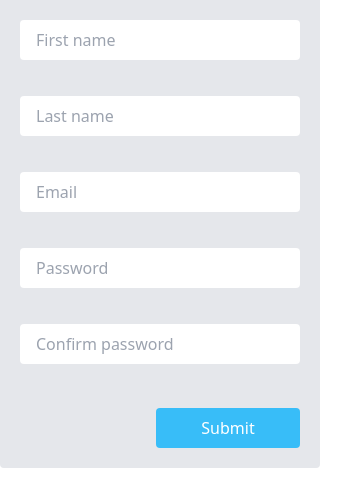
Test: User signup › Should render errors on signup fail
Type "James" into the field with placeholder "First name" at (160, 40), box [20,20,300,60]
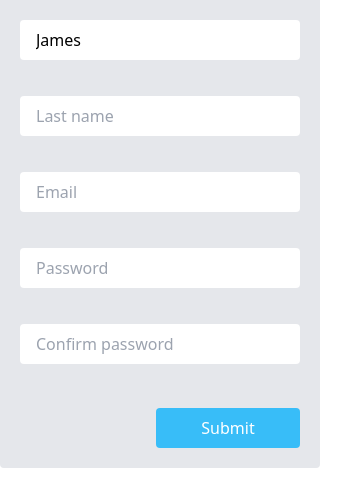
Type "Yeboah" into the field with placeholder "Last name" at (160, 116), box [20,96,300,136]
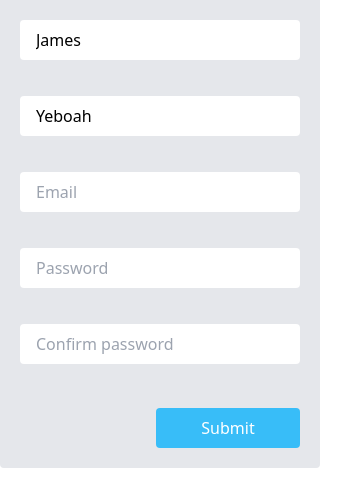
Type "jamesyeb@gmail.com" into the field with placeholder "Email" at (160, 192), box [20,172,300,212]
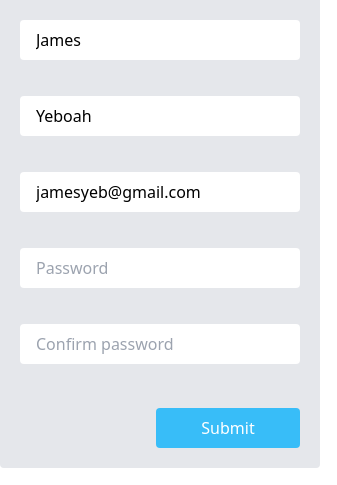
Type "1233addf!" into the password field with placeholder "Password" at (160, 268), box [20,248,300,288]
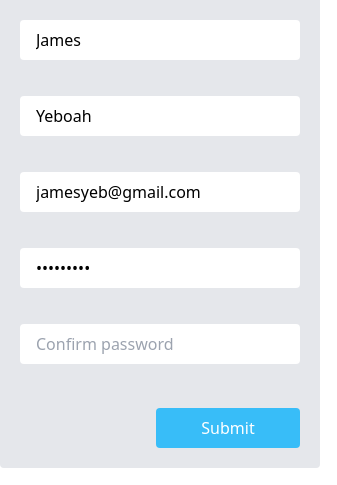
Type "1233addf!" into the password field with placeholder "Confirm password" at (160, 344), box [20,324,300,364]
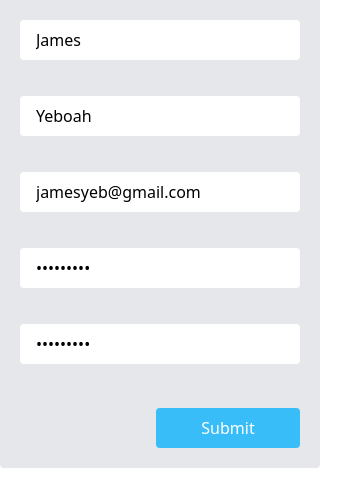
Click the button with test id "genform-submit" at (228, 428), box [156,408,300,448]
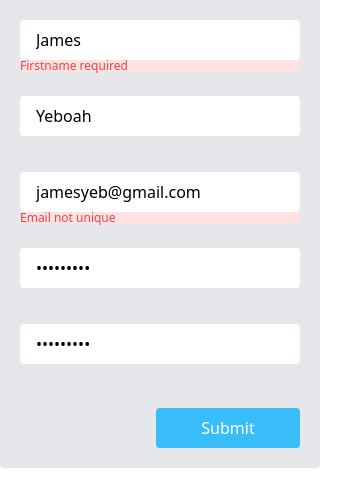
Now the text "Email not unique" is shown, box [20,212,300,224]
